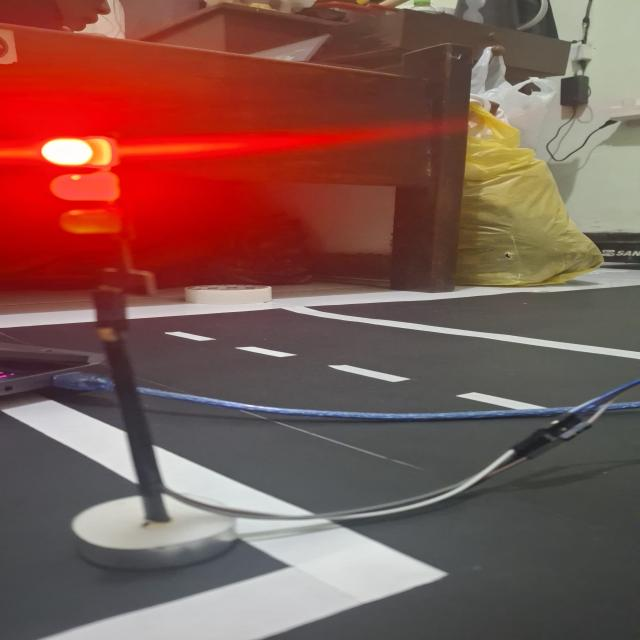Lampu Merah: (34, 135, 132, 240)
